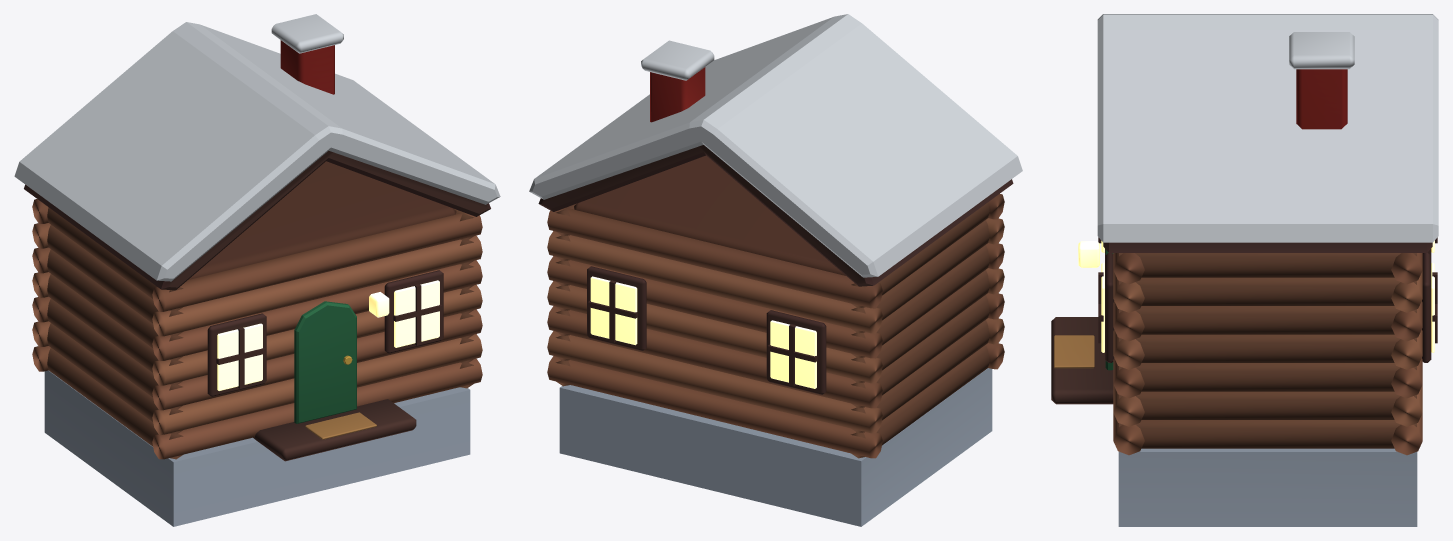
File: house_c.glb
3 views of the same model, side by side, from view 1: azimuth 30°, elevation 25°; view 2: azimuth 150°, elevation 25°; view 3: azimuth 270°, elevation 25° (orthographic). The views are drawn at different scales.
Parts seen in each view (by area): view 1: house_c; view 2: house_c; view 3: house_c.
Part boxes in pixels (bbox=[...]): house_c: bbox=[14, 14, 500, 526]; house_c: bbox=[529, 14, 1022, 526]; house_c: bbox=[1051, 14, 1438, 526].
Size of the model in its own units: 5.56 by 5.89 by 4.68.
